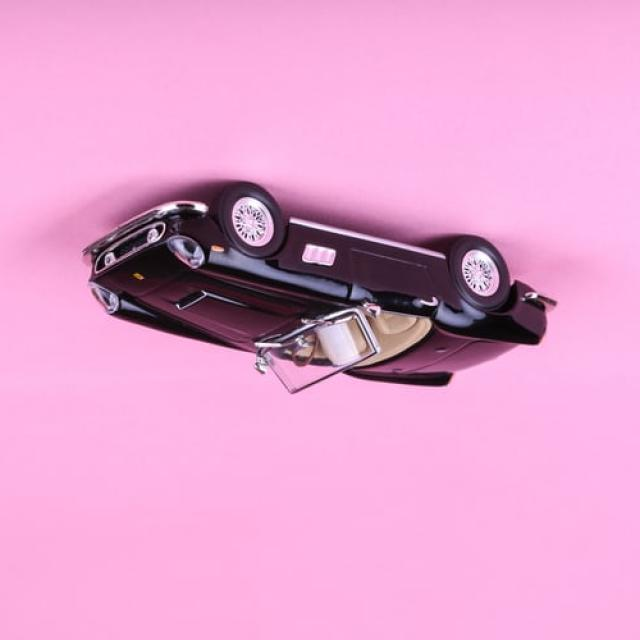Car: (82, 182, 558, 397)
